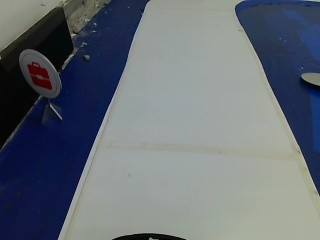company: (17, 48, 61, 98)
